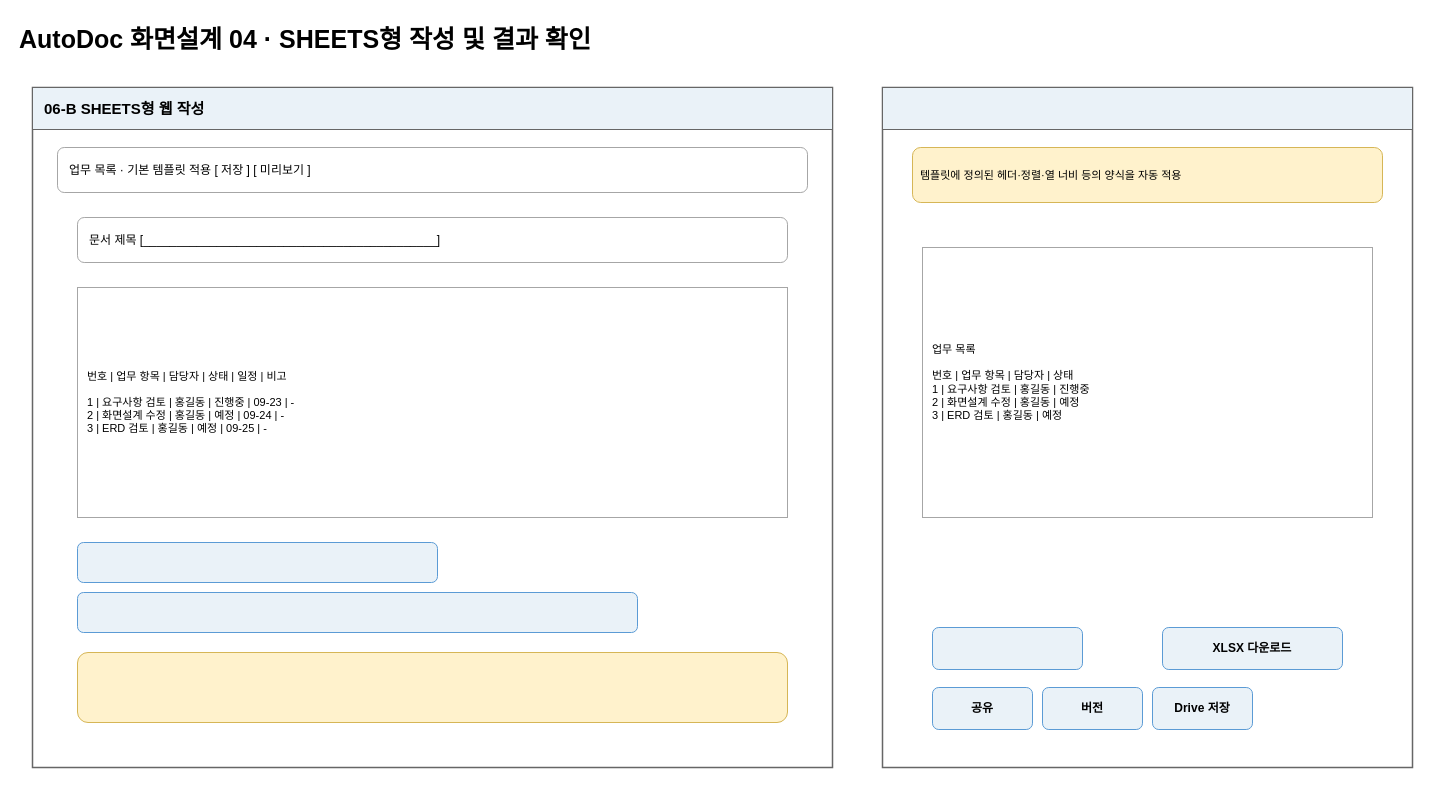
Image size: 1430x785. Some labels were removed from this diagram. The box of each missing label's shape, as (x1, y1, x2, y2) in pixels:
07-B SHEETS 미리보기 · 다운로드: (882, 86, 1412, 130)
[ ＋ 열 추가 ] [ 열 수정 ] [ 열 삭제 ] [ ← 열 이동 ] [ 열 이동 → ]: (76, 592, 638, 632)
[ ＋ 행 추가 ] [ 행 수정 ] [ 행 삭제 ]: (76, 542, 438, 582)
← 작성 화면: (932, 626, 1082, 670)
행·열 기반 데이터 입력 지원 셀 수식 / 매크로 / 복잡한 차트 / 셀별 디자인 편집은 제공하지 않음: (76, 652, 788, 722)
